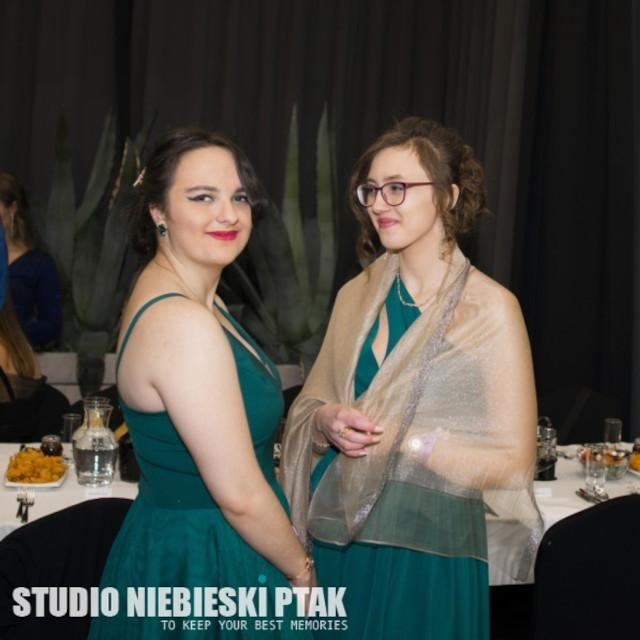kobieta: (307, 111, 539, 640), (119, 127, 313, 640), (0, 179, 70, 349)
